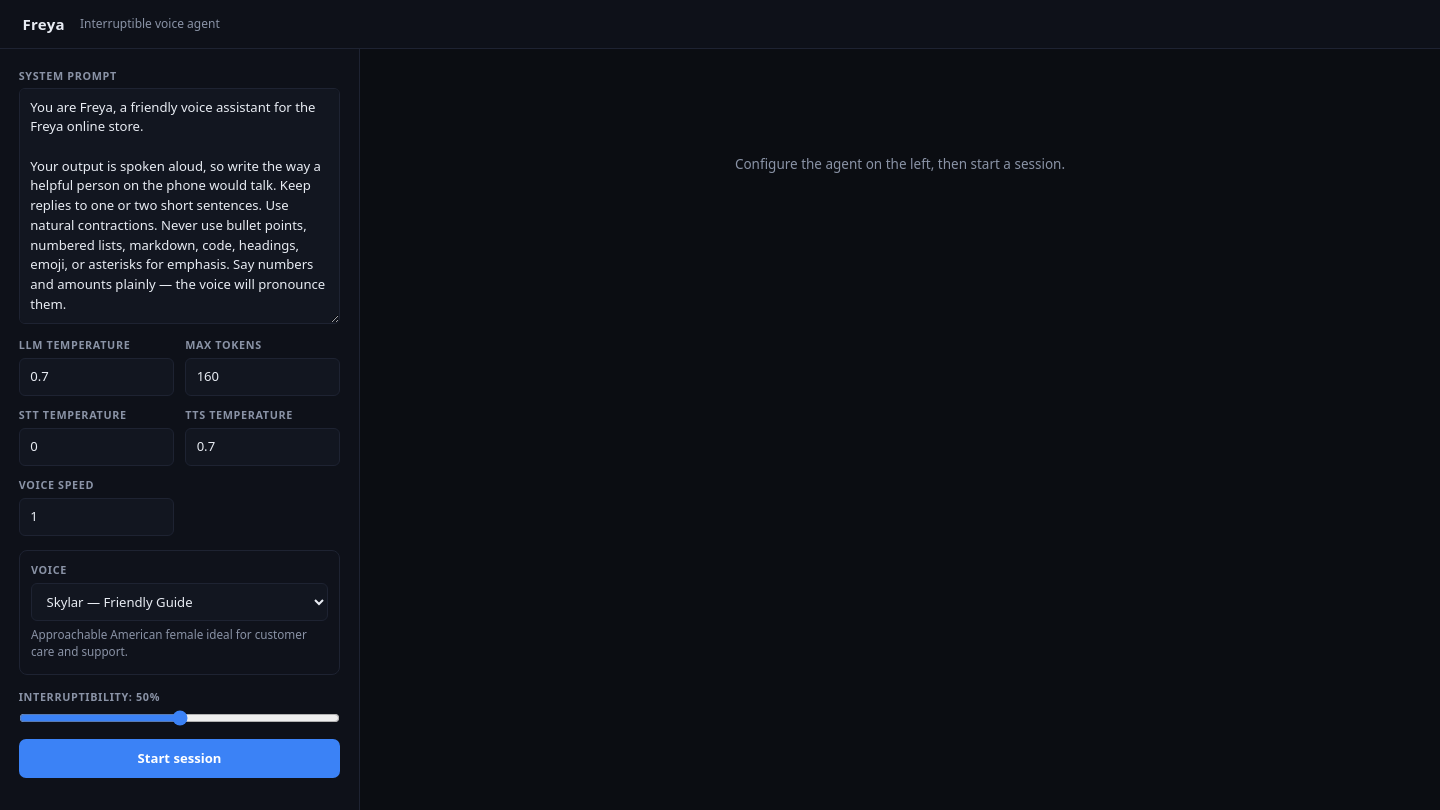
Test case: HomePage session dashboard › rounds latency and renders interruption entries
Click the button "Start session".
click(180, 759)  # box [19,739,340,778]
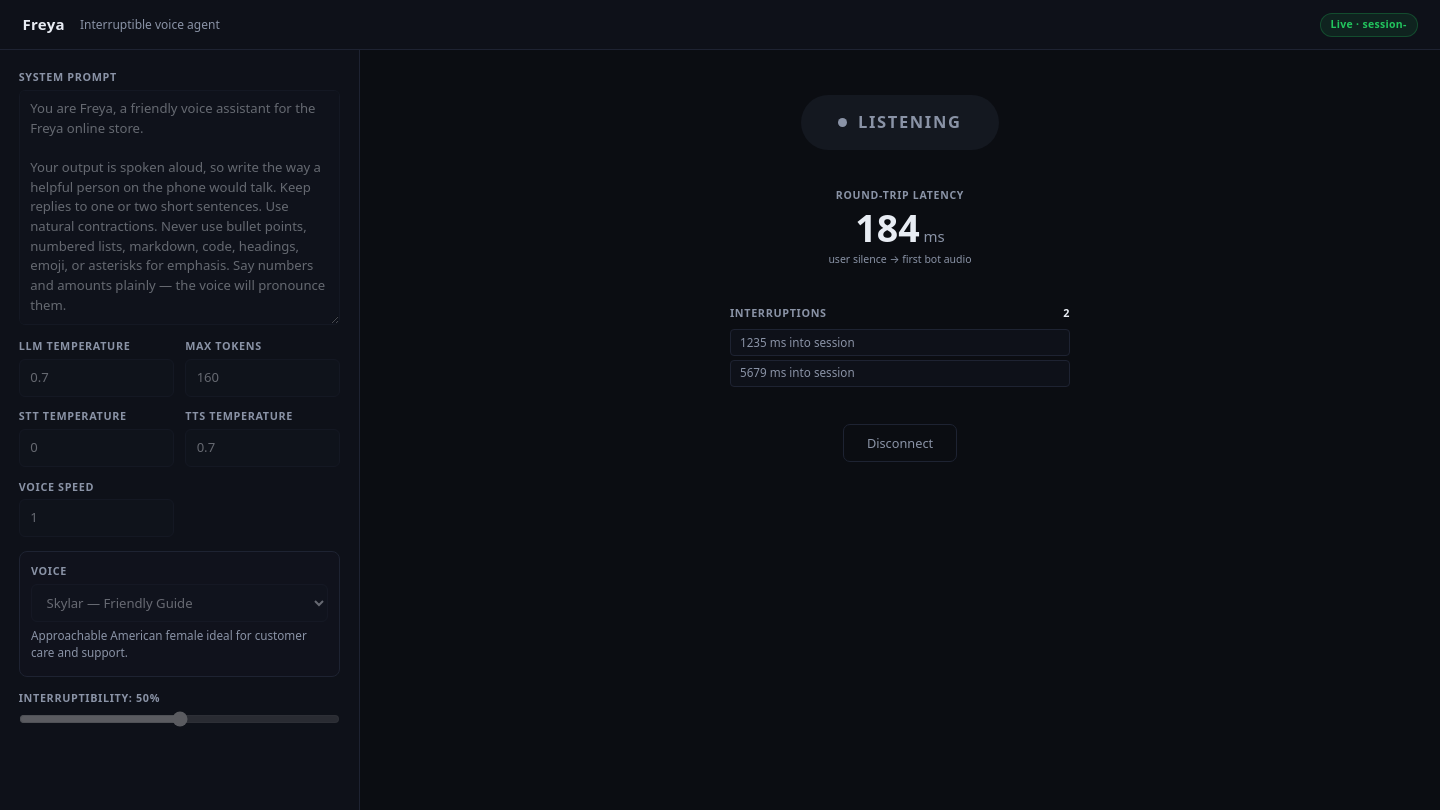
Result: the text "Live · session-" is shown at [1320,13,1418,37]
Result: the list item "1235 ms into session" is shown at [730,329,1070,356]
Result: the list item "5679 ms into session" is shown at [730,360,1070,387]
